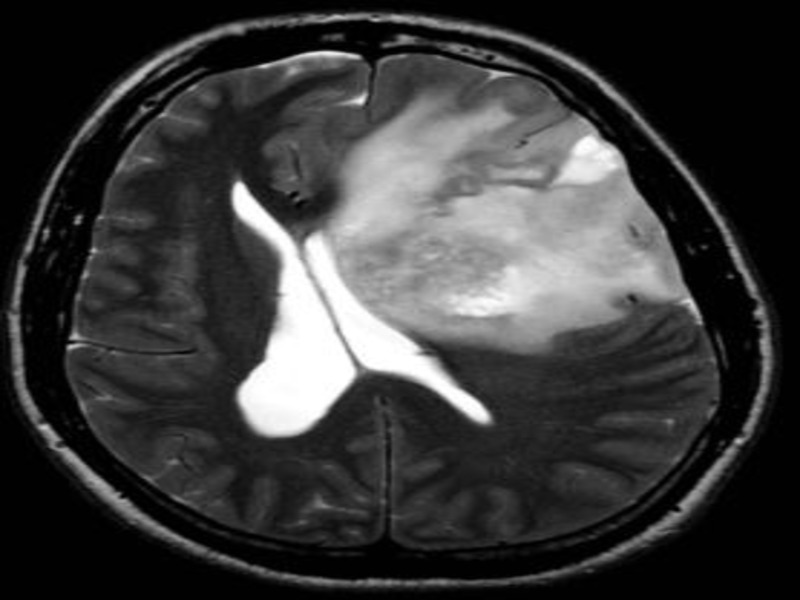tumor: (226, 180, 500, 440)
